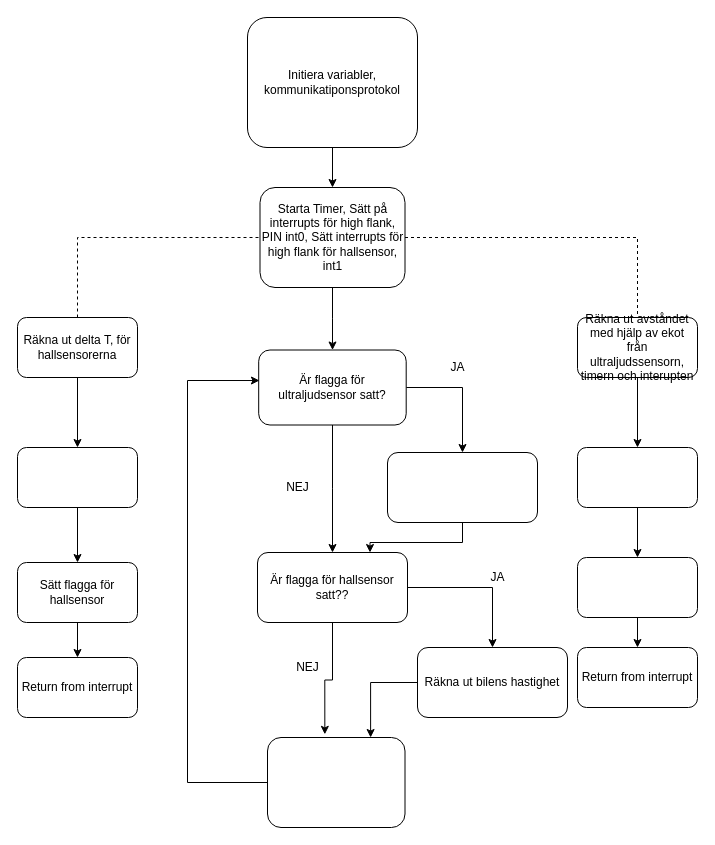
Some shapes in this 715 by 845 pixel diagram are drawn without their labels. The centre of each missing label's shape, as x and y in pixels:
"använd delta T för att få fram ett nytt värde" goes at point (77, 477).
"Räkna ut avståndet till hindret" goes at point (462, 487).
"Skicka data till kommunikationsmodulen" goes at point (335, 782).
"Sätt flagga för ultraljud" goes at point (637, 587).
"Återställ timern" goes at point (637, 477).
